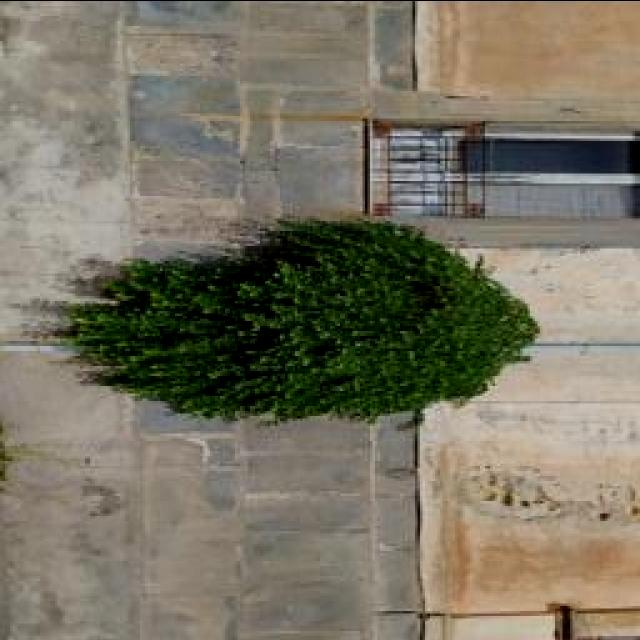vegetation: (55, 213, 540, 426)
